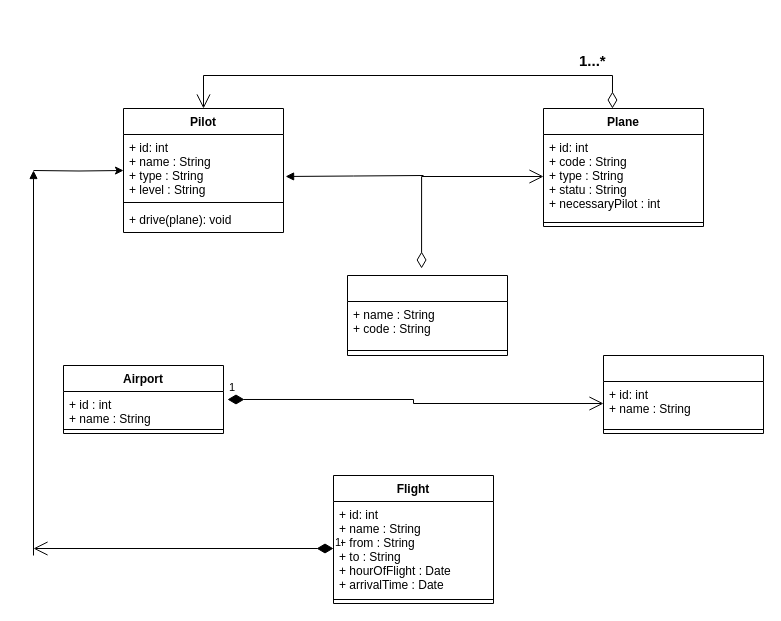
The diagram is 781 pixels wide and 621 high, and some of its shapes have lost their labels. The shapes that lost their labels are listed below. From the top down, each one's box as (x1, y1, x2, y2) in pixels, then its label:
(346, 274, 508, 356): AirlineCorporation
(602, 354, 764, 434): Airline
